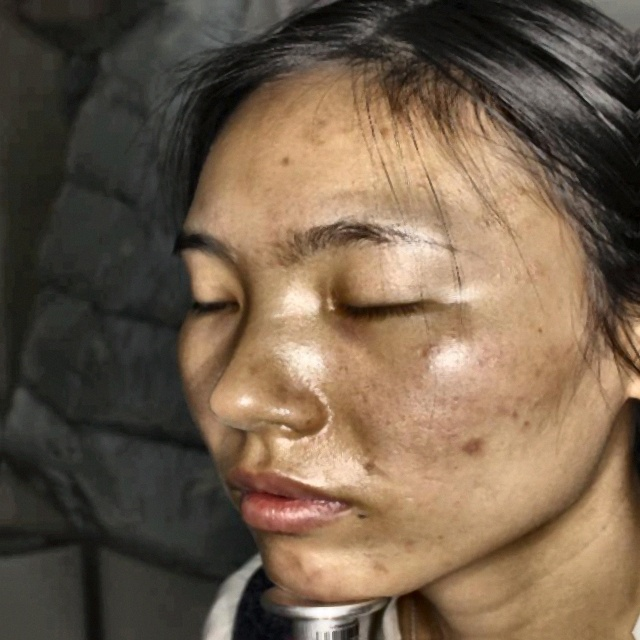comedone: (452, 427, 496, 466), (286, 546, 325, 588)
